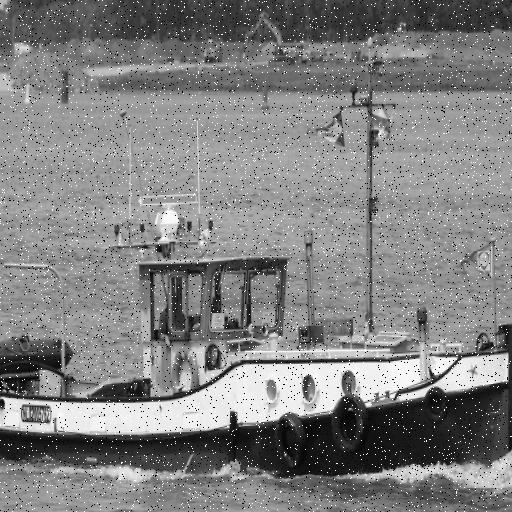tugboat: (1, 189, 512, 493)
